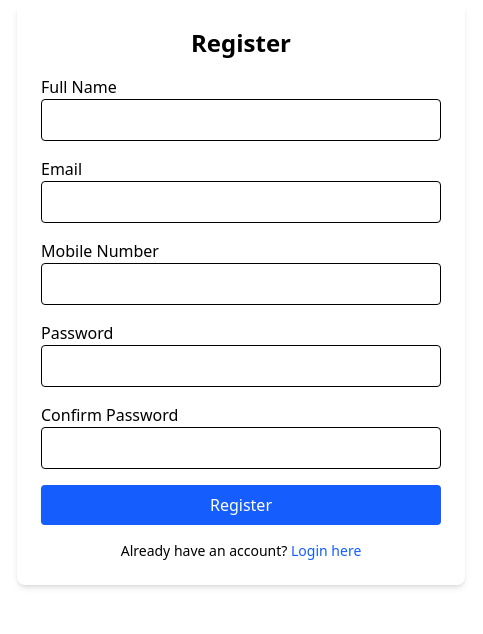
Scenario: RegisterPage › shows error when mobile number is invalid
Type "John Doe" into the field labelled "Full Name".
click(241, 120); type("John Doe")  # box x1=41 y1=99 x2=441 y2=141
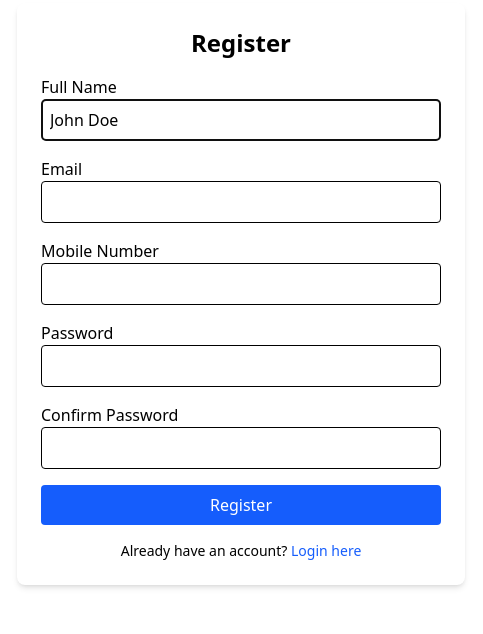
Type "john@example.com" into the field labelled "Email".
click(241, 202); type("john@example.com")  # box x1=41 y1=181 x2=441 y2=223
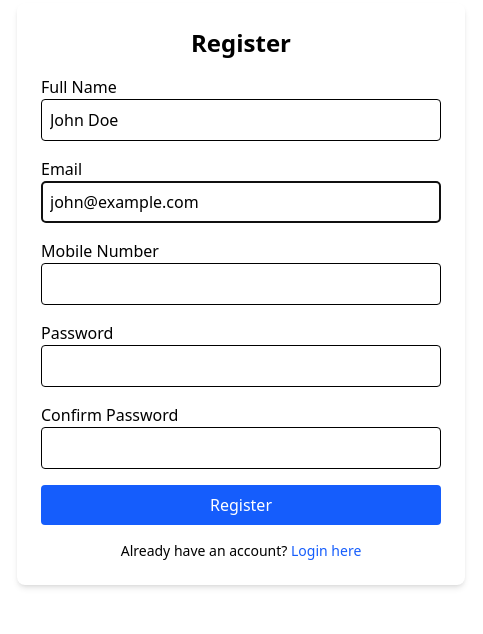
Type "12345" into the field labelled "Mobile Number".
click(241, 284); type("12345")  # box x1=41 y1=263 x2=441 y2=305
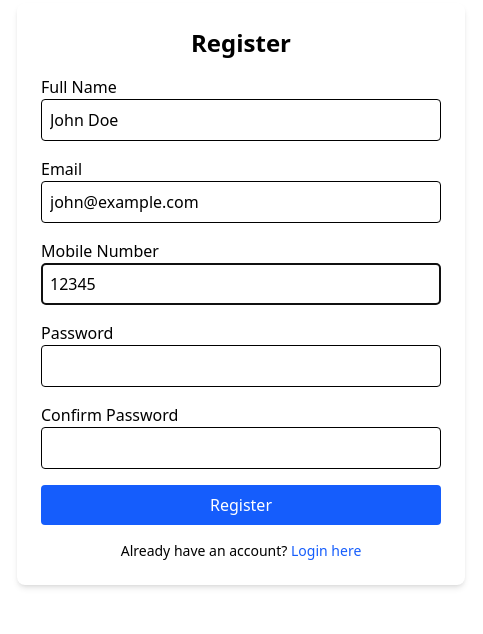
Type "password123" into the password field labelled "Password".
click(241, 366); type("password123")  # box x1=41 y1=345 x2=441 y2=387
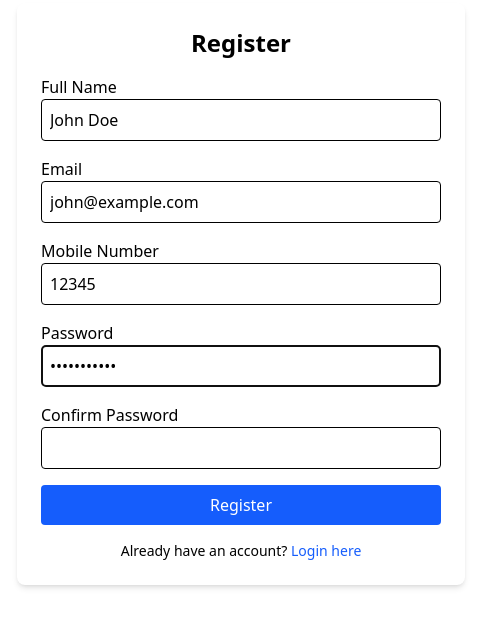
Type "password123" into the password field labelled "Confirm Password".
click(241, 448); type("password123")  # box x1=41 y1=427 x2=441 y2=469
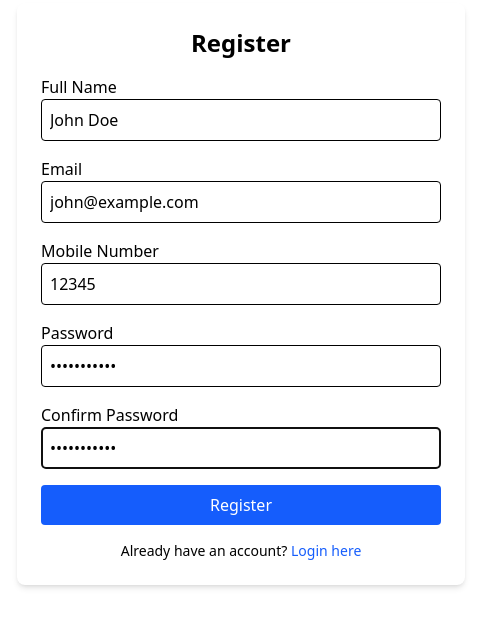
Click the button "Register".
click(241, 505)  # box x1=41 y1=485 x2=441 y2=525
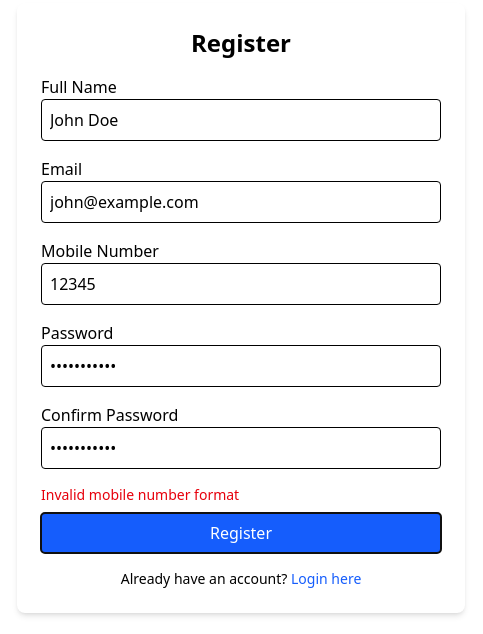
expect the text "Invalid mobile number format" is shown: met, box x1=41 y1=485 x2=239 y2=504
